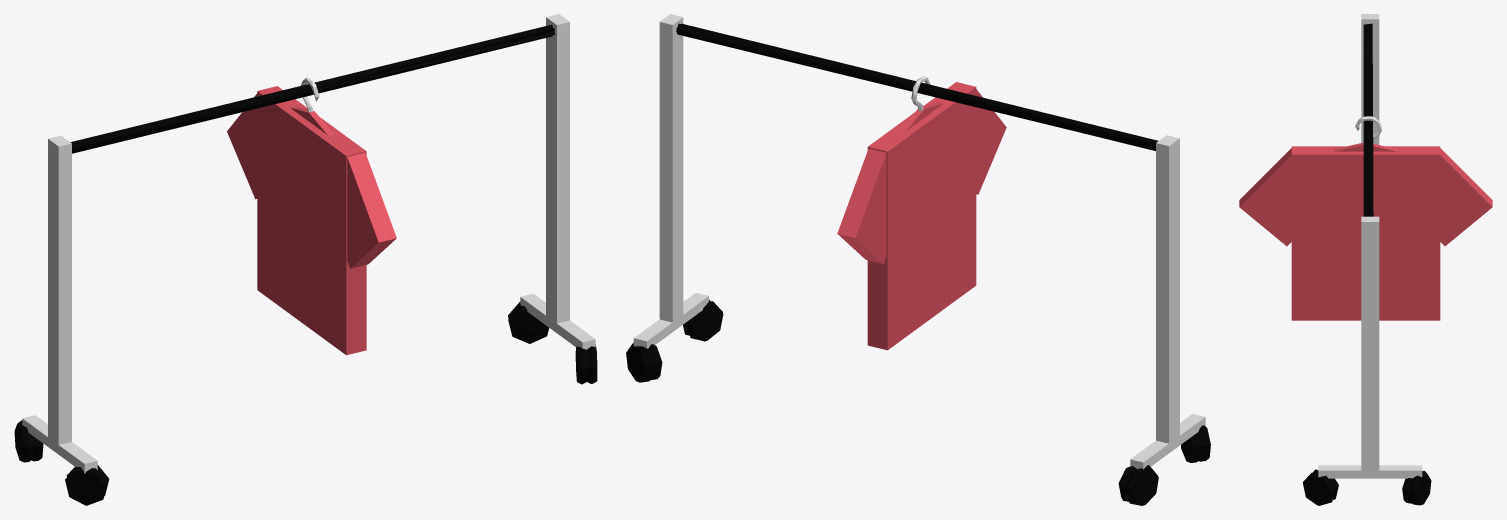
The model's file is rack_1.fbx.
3 views of the same model, side by side, from view 1: azimuth 30°, elevation 25°; view 2: azimuth 150°, elevation 25°; view 3: azimuth 270°, elevation 25° (orthographic). The views are drawn at different scales.
Visible parts, largest first — view 1: Plane.001, Cube.003, Cube, Cylinder, Cube.004, Cube.002, Cube.005, Cube.001; view 2: Plane.001, Cube, Cube.003, Cylinder, Cube.005, Cube.002, Cube.001, Cube.004; view 3: Plane.001, Cube, Cylinder, Cube.003, Cube.001, Cube.002.
Part boxes in pixels (x1,y1,x2,y2): Plane.001: (227,86,396,355); Cube.003: (22,135,97,473); Cube: (520,14,595,349); Cylinder: (70,24,555,153); Cube.004: (65,465,109,505); Cube.002: (508,302,548,343); Cube.005: (14,420,43,462); Cube.001: (575,345,597,384); Plane.001: (837,82,1006,350); Cube: (633,14,708,348); Cube.003: (1130,135,1205,469); Cylinder: (676,23,1158,150); Cube.005: (1118,465,1158,505); Cube.002: (626,343,662,382); Cube.001: (683,299,723,341); Cube.004: (1181,425,1210,462); Plane.001: (1239,142,1492,320); Cube: (1318,216,1422,478); Cylinder: (1363,23,1373,216); Cube.003: (1361,14,1379,144); Cube.001: (1303,469,1338,505); Cube.002: (1402,470,1431,505).
Size of the model in its own units: 561 by 346 by 276.
